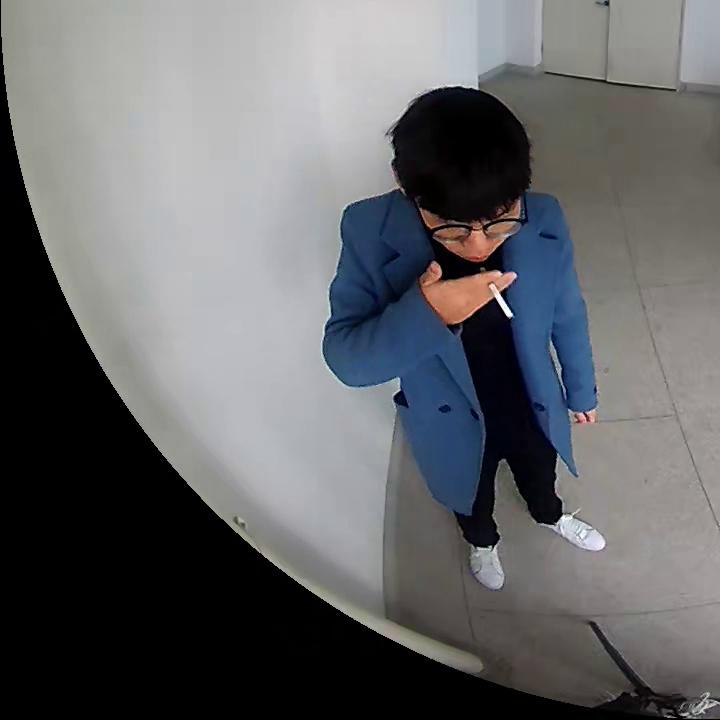handsmoke: (426, 266, 527, 324)
handwithoutsmoke: (568, 408, 601, 429)
mouthwithoutsmoke: (390, 88, 529, 262)
